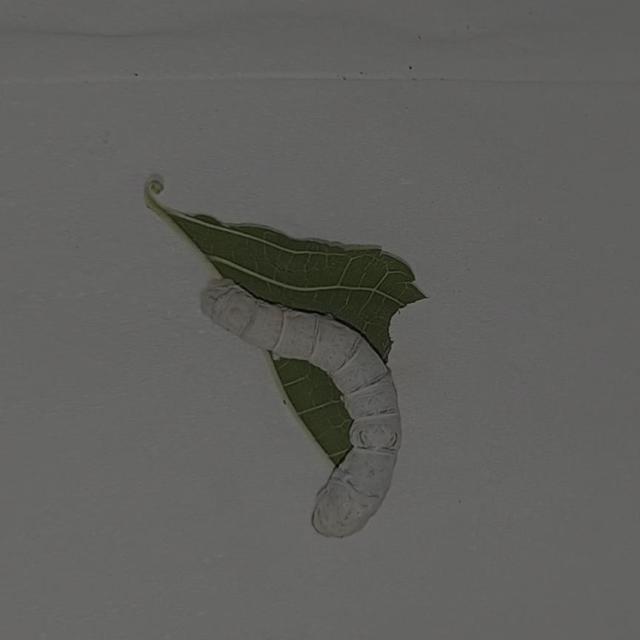Healthy: (173, 227, 454, 585)
